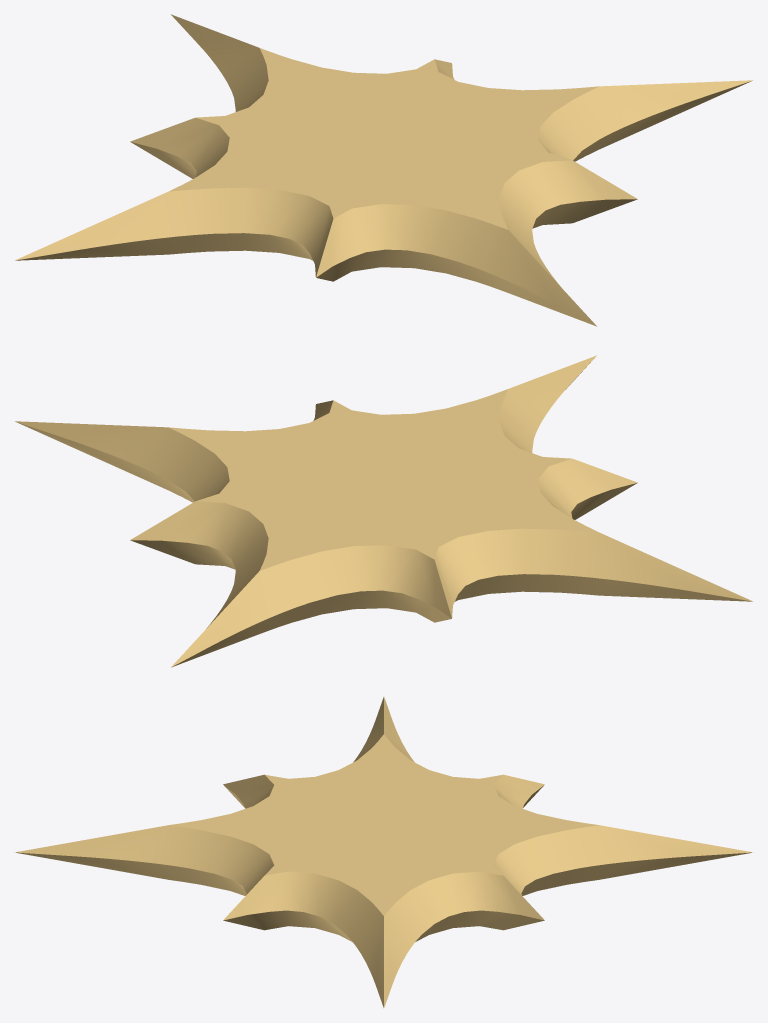
Rendered from Sigil3.fbx.
The picture shows the model from 3 angles, top to bottom: view 1: azimuth 30°, elevation 25°; view 2: azimuth 150°, elevation 25°; view 3: azimuth 270°, elevation 25°; orthographic projection. The views are drawn at different scales.
Parts seen in each view (by area): view 1: Sigil_3; view 2: Sigil_3; view 3: Sigil_3.
Boxes of the visible parts, x1,y1,x2,y2 form: Sigil_3: [15, 14, 752, 326]; Sigil_3: [15, 355, 752, 667]; Sigil_3: [14, 697, 753, 1007].
Bounding box in the file's own units: 0.1276 × 0.0104 × 0.1276.
